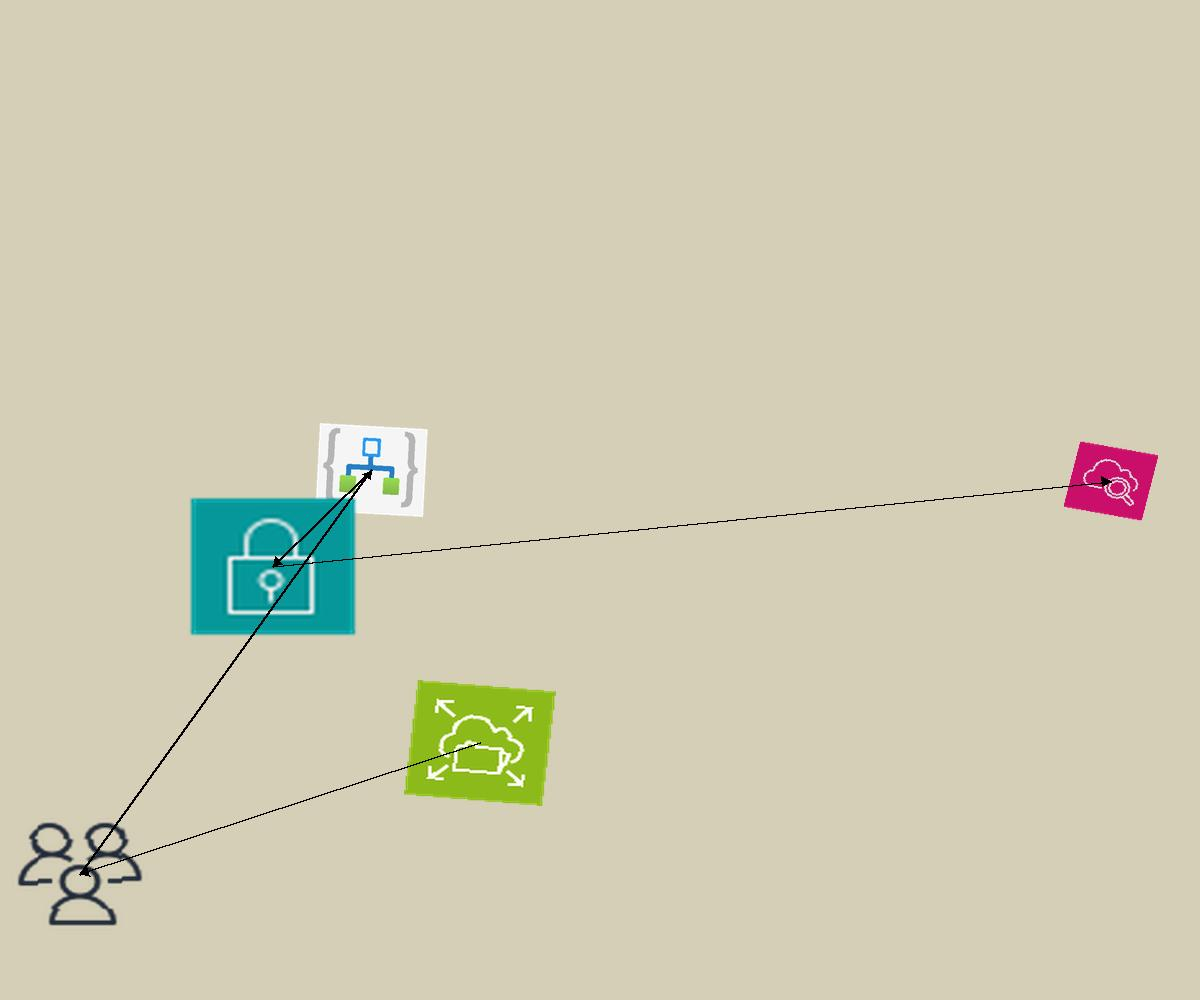AWS-CloudWatch: (1063, 441, 1159, 521)
AWS-EFS: (404, 680, 556, 806)
AWS-Private-subnet: (187, 495, 359, 638)
AWS-Res_Users: (10, 816, 150, 932)
Azure_integration-204-Logic-Apps: (315, 423, 428, 517)
